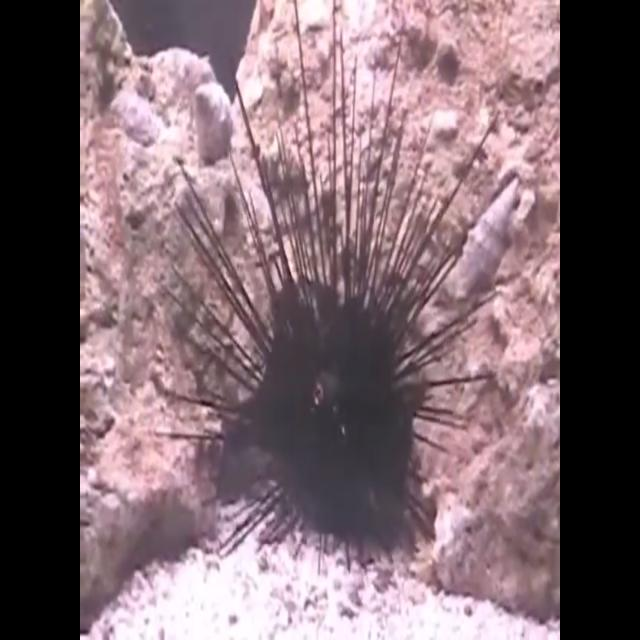Urchin: (157, 49, 466, 564)
